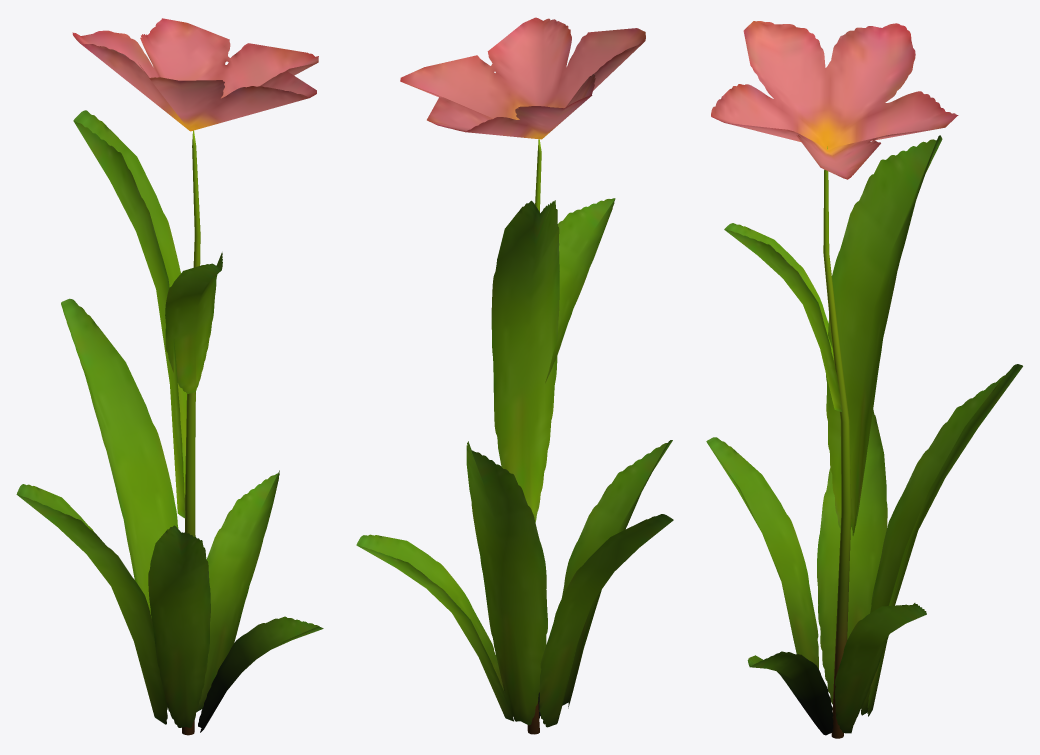
The model's file is flower-3.glb.
3 renders of one model, left to right at view 1: azimuth 30°, elevation 25°; view 2: azimuth 150°, elevation 25°; view 3: azimuth 270°, elevation 25°, orthographic. The views are drawn at different scales.
Visible parts, largest first — view 1: Flower_3_Single; view 2: Flower_3_Single; view 3: Flower_3_Single.
Part boxes in pixels (box(x1,y1,x2,y2)): Flower_3_Single: box(16, 18, 323, 735); Flower_3_Single: box(356, 17, 673, 734); Flower_3_Single: box(706, 21, 1022, 738).
Size of the model in its own units: 0.1315 by 0.3 by 0.1273.
2 materials, 2 textured.
